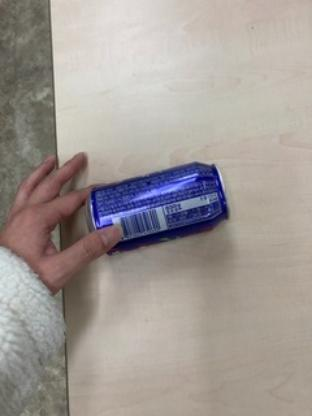Can: (83, 156, 232, 258)
